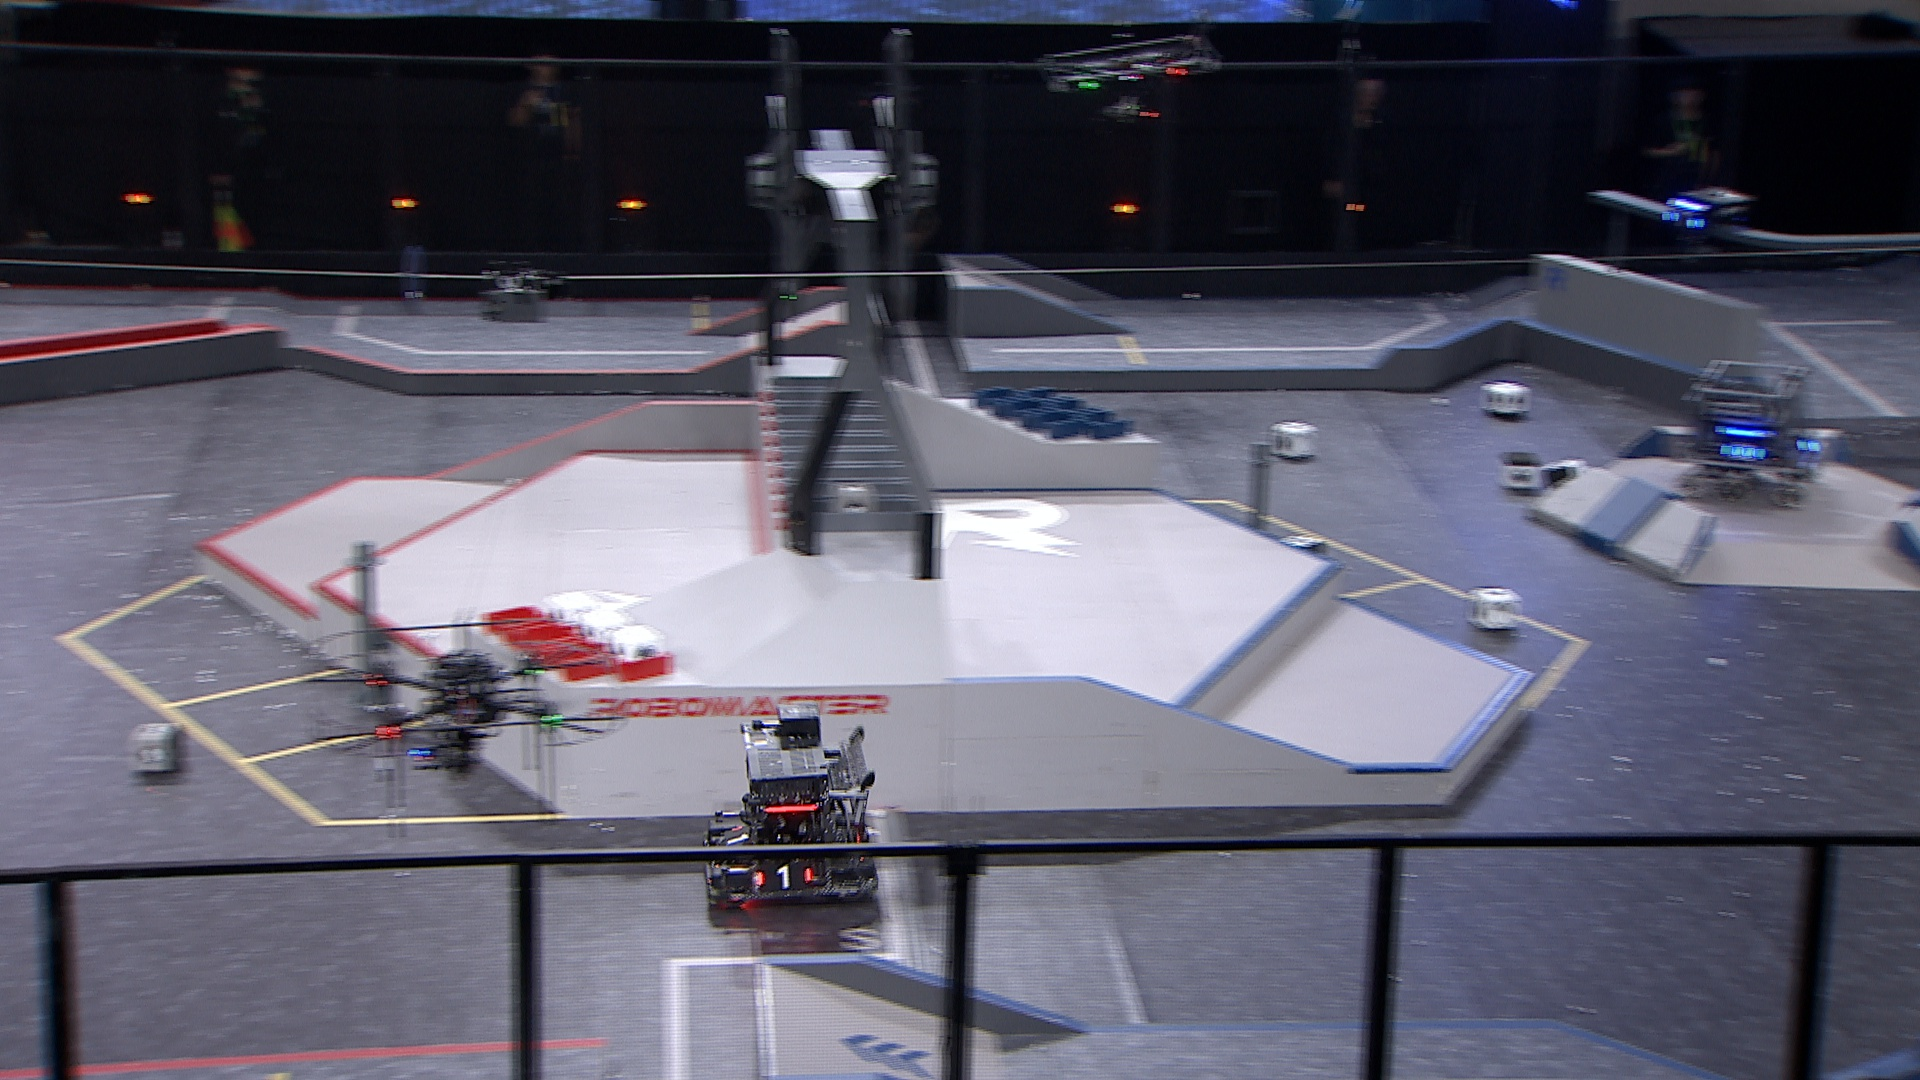armor: (752, 856, 818, 894), (717, 822, 752, 856), (1717, 442, 1764, 465), (1664, 208, 1709, 233)
car: (700, 723, 882, 911), (1673, 353, 1822, 510)
watcher: (1662, 183, 1749, 272)
